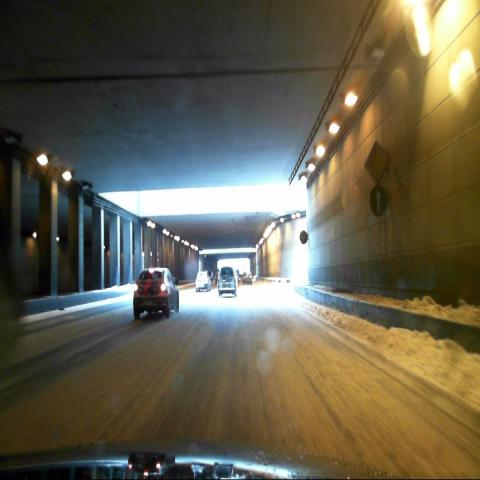2_1: (363, 140, 389, 184)
4_1_1: (370, 187, 386, 216)
